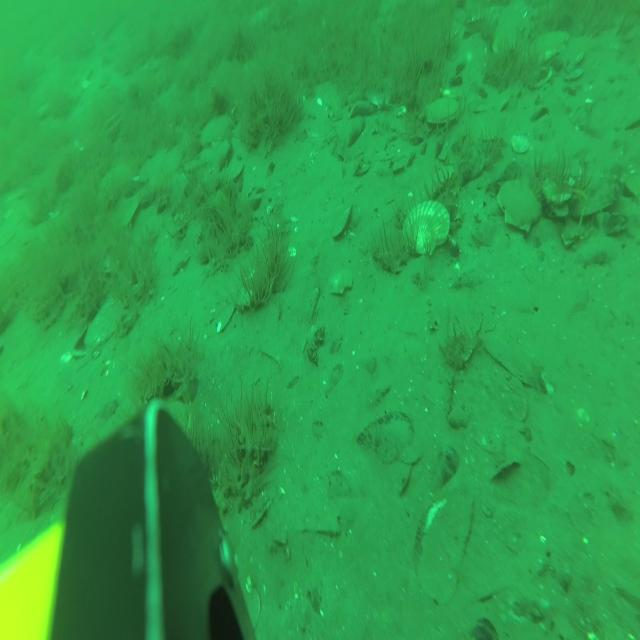scallop: (401, 196, 452, 260), (496, 172, 542, 235), (84, 294, 126, 353), (198, 113, 233, 152), (424, 96, 462, 127), (326, 263, 358, 298)
